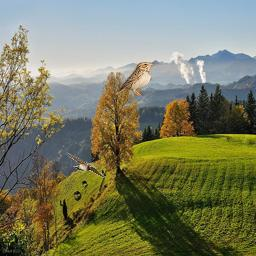Sparrow: (115, 62, 155, 96)
Swallow: (66, 152, 106, 178)
